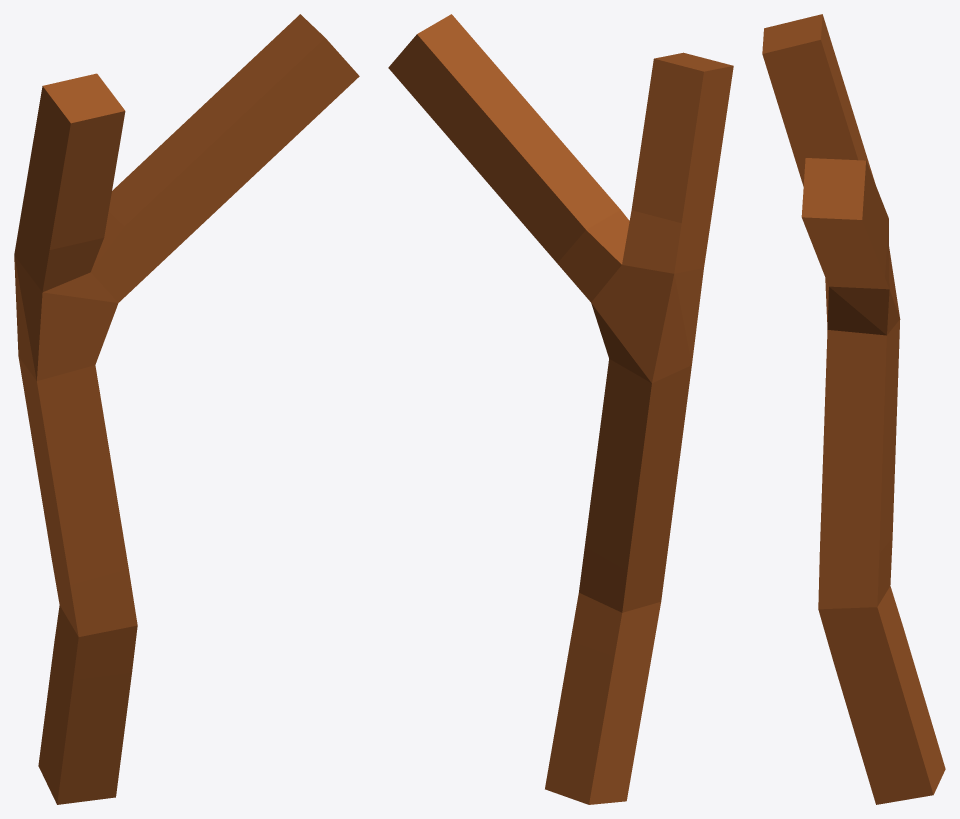
Rendered from deadTree.glb.
3 renders of one model, left to right at view 1: azimuth 30°, elevation 25°; view 2: azimuth 150°, elevation 25°; view 3: azimuth 270°, elevation 25°, orthographic. The views are drawn at different scales.
Parts seen in each view (by area): view 1: DeadTree; view 2: DeadTree; view 3: DeadTree.
Part boxes in pixels (<box>): DeadTree: <box>14,14,359,804</box>; DeadTree: <box>388,14,733,804</box>; DeadTree: <box>762,14,945,804</box>.
Size of the model in its own units: 2.92 by 6.73 by 1.5.
